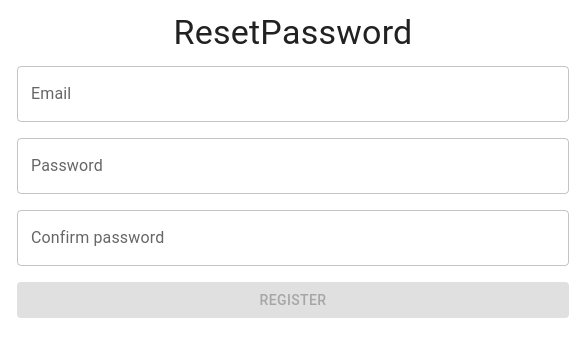
Test: ResetPasswordForm › disables the submit button when required fields are empty
Expected: the button "Register" is disabled, [17,282,569,318]
Type "test@example.com" into the field labelled "Email".
click(293, 94); type("test@example.com")  # box [17,66,569,122]
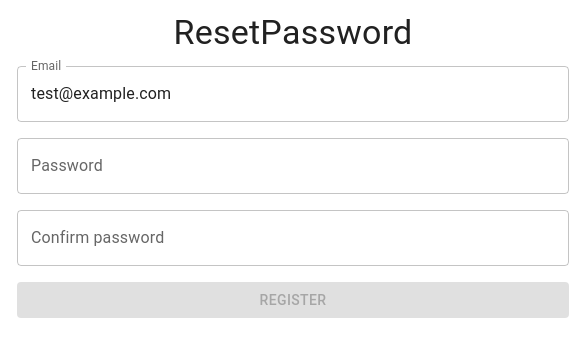
Type "Password123" into the password field labelled "Password".
click(293, 166); type("Password123")  # box [17,138,569,194]
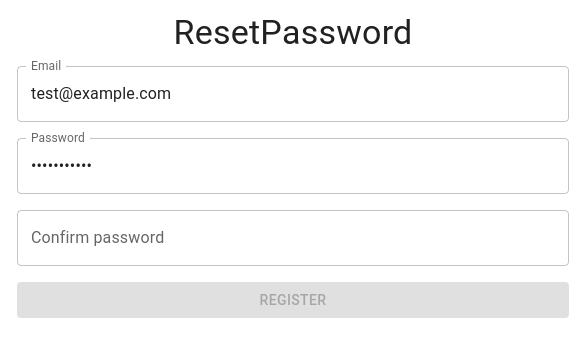
Type "Password123" into the password field labelled "Confirm password".
click(293, 238); type("Password123")  # box [17,210,569,266]
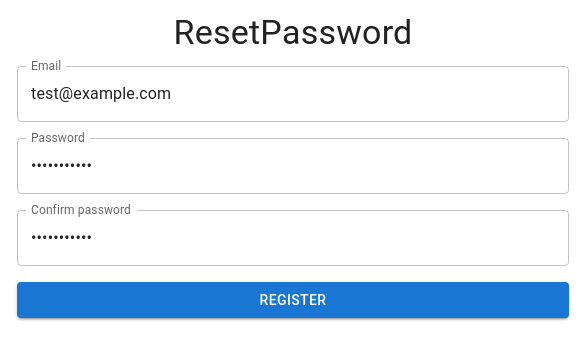
Now the button "Register" is enabled, box [17,282,569,318]
